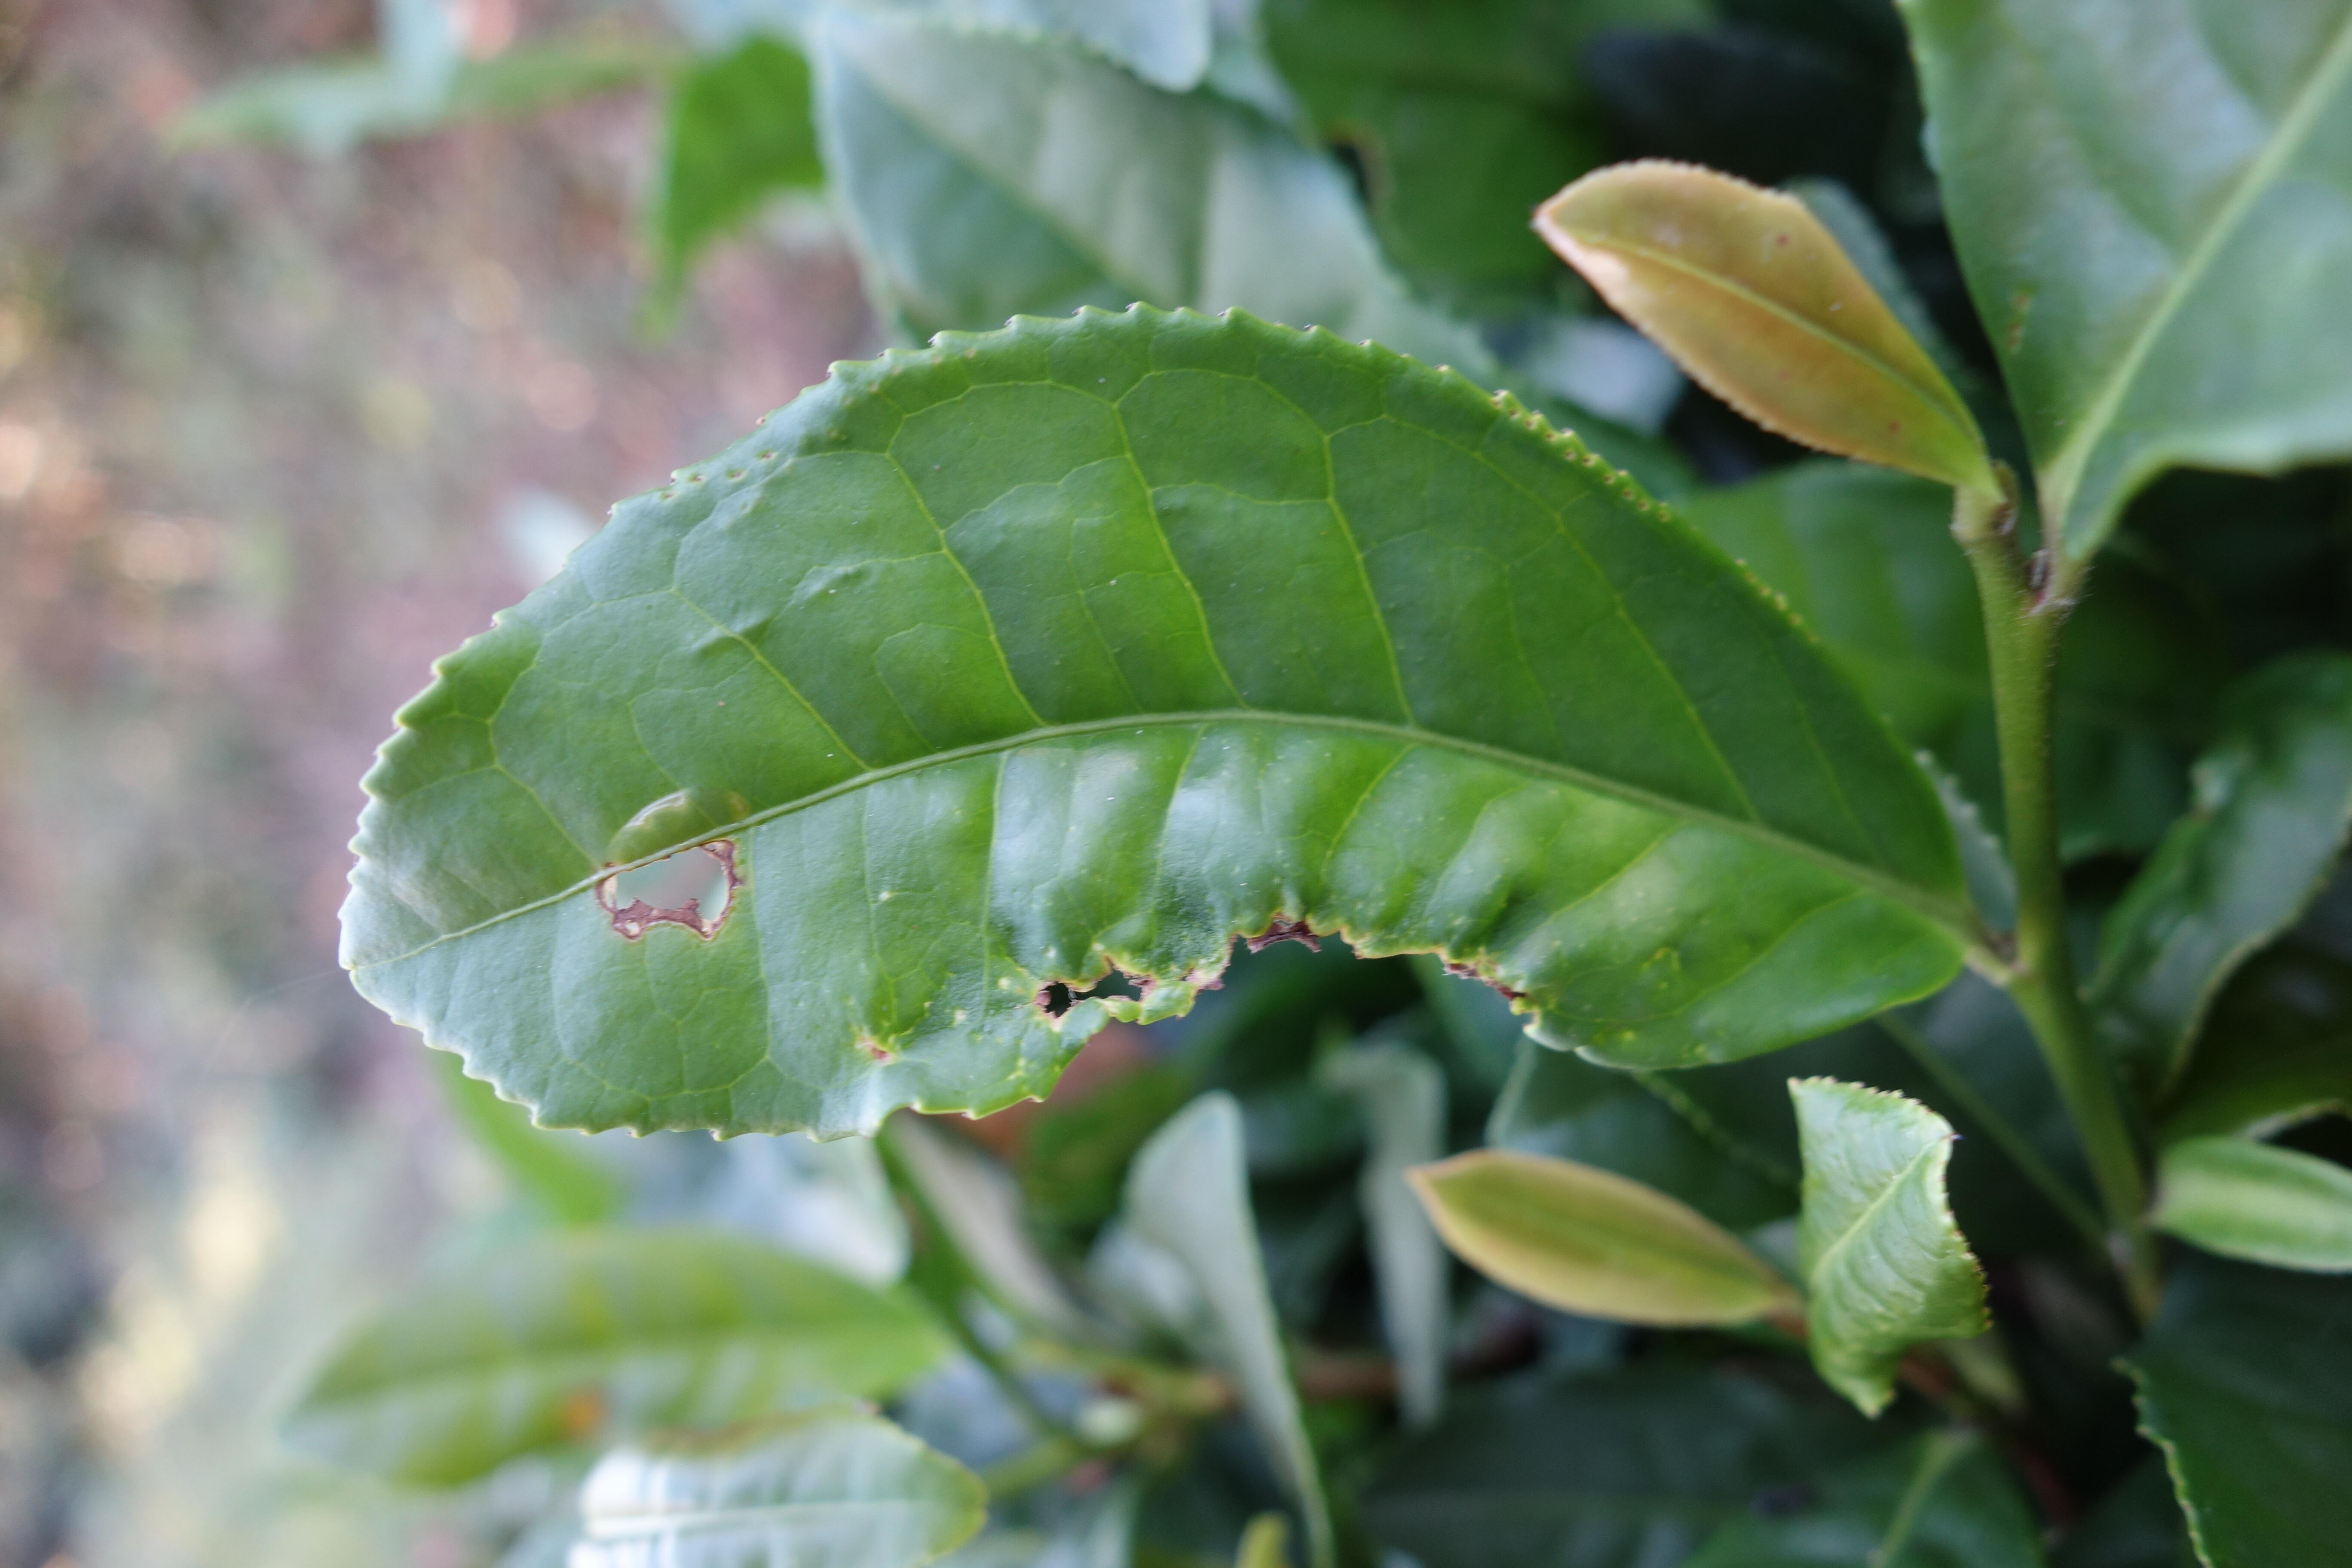chihuo_high: (331, 294, 1977, 1148)
tanju_low: (1535, 157, 1997, 495), (1407, 1153, 1774, 1328)
